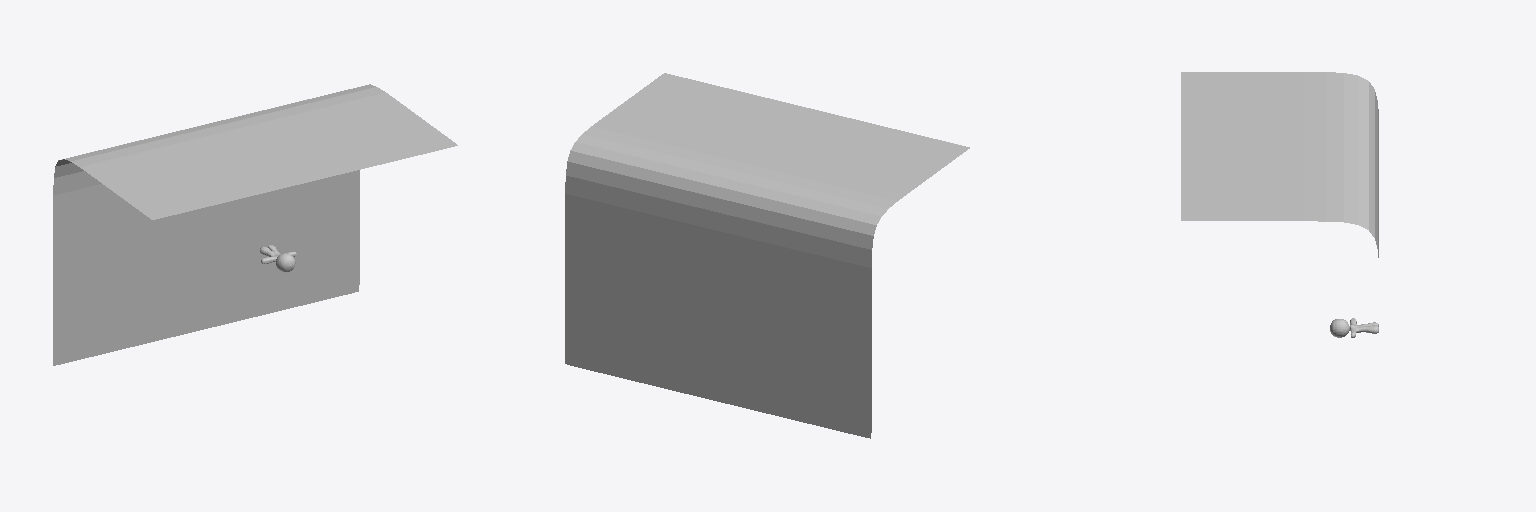
The model's file is Pip.obj.
3 views of the same model, side by side, from view 1: azimuth 30°, elevation 25°; view 2: azimuth 150°, elevation 25°; view 3: azimuth 270°, elevation 25° (orthographic).
Parts seen in each view (by area): view 1: obj1, obj2; view 2: obj1; view 3: obj1, obj2.
Part boxes in pixels (bbox=[...]): obj1: bbox=[53, 84, 457, 365]; obj2: bbox=[260, 245, 296, 272]; obj1: bbox=[565, 73, 969, 438]; obj1: bbox=[1181, 72, 1378, 257]; obj2: bbox=[1330, 318, 1378, 337].
Size of the model in its own units: 45.05 by 30.72 by 25.31.